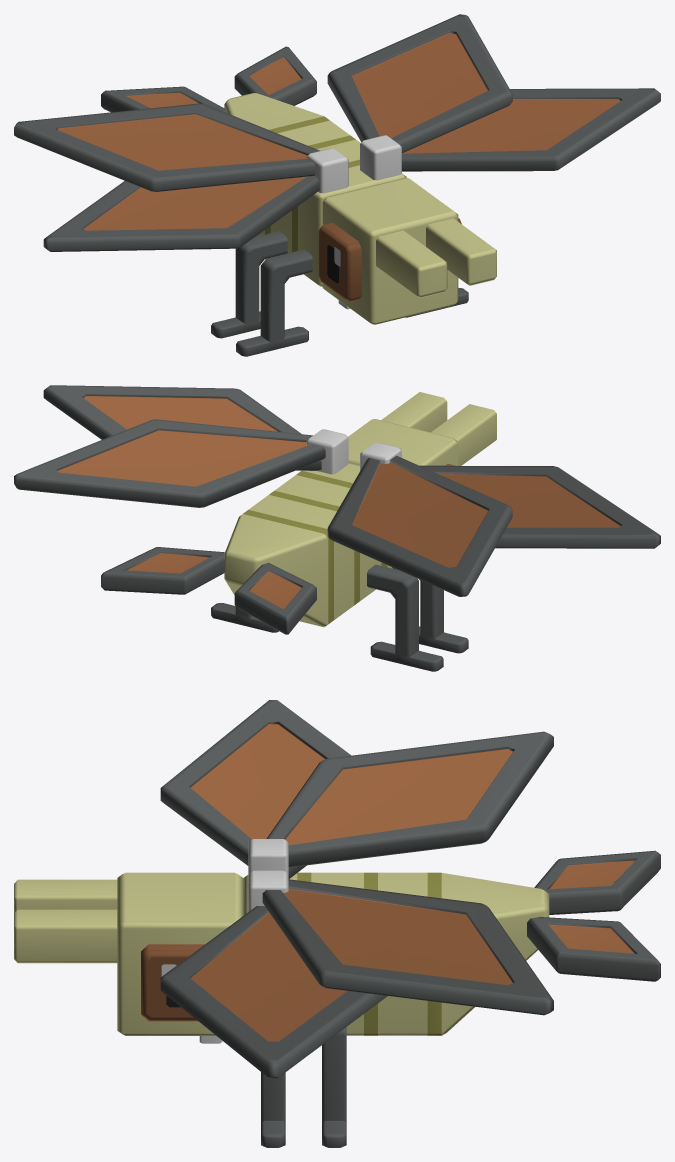
3 views of the same model, one above another, from view 1: azimuth 30°, elevation 25°; view 2: azimuth 150°, elevation 25°; view 3: azimuth 270°, elevation 25° (orthographic). The views are drawn at different scales.
Visible parts, largest first — view 1: model; view 2: model; view 3: model.
Part boxes in pixels (x1,y1,x2,y2): model: [14, 14, 660, 356]; model: [14, 385, 660, 671]; model: [14, 700, 660, 1147].
Size of the model in its own units: 4.06 by 1.14 by 3.04.
